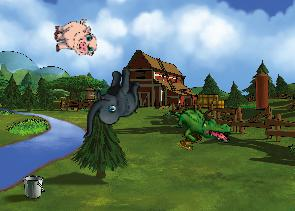crocodile: (171, 107, 231, 144)
elephant: (83, 68, 140, 138)
pig: (52, 18, 97, 59)
